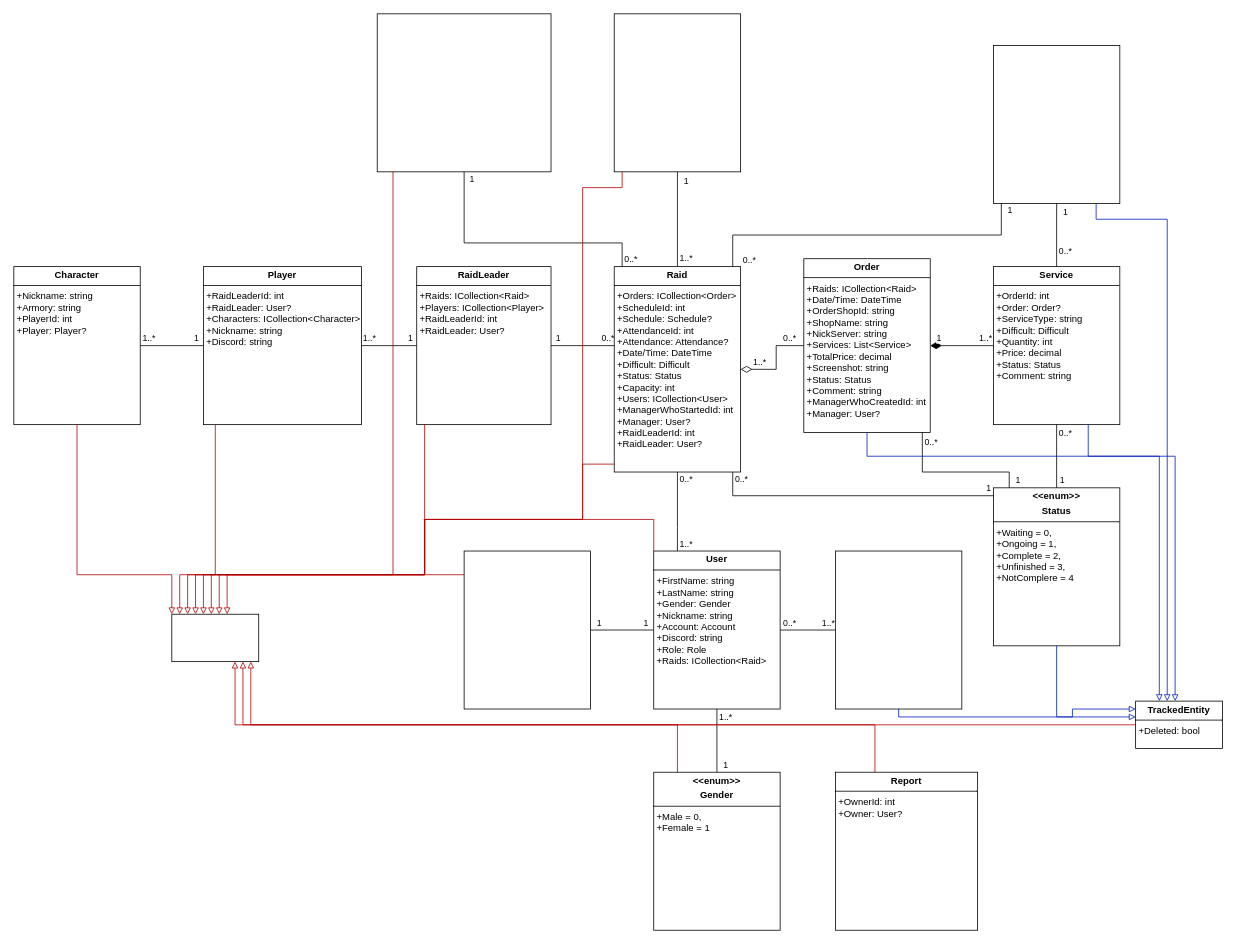
Image size: 1236x944. Some labels were removed from this diagram. The shapes that lost their labels are listed below. From the top down, each one's centre as x and y in pixels, then its label:
(463,92): Attendance +Date: DateTIme +Raids: ICollection<Raid> +WasInRaid: bool
(677,92): Schedule +DateTimeMSK: DateTime +DateTimeEDT: DateTIme +Raids: ICollection<Raid>
(1056,124): <<enum>> Difficult +Normal = 0, +Heroic = 1, +Mythic = 2
(215,637): Entity +Id: int
(527,629): Account +Emain: string +Password: string +User: User? +UserId: int
(898,629): <<enum>> Role +Owner = 0, +SuperManager = 1, +Manager = 2, +RaidLeader = 3
